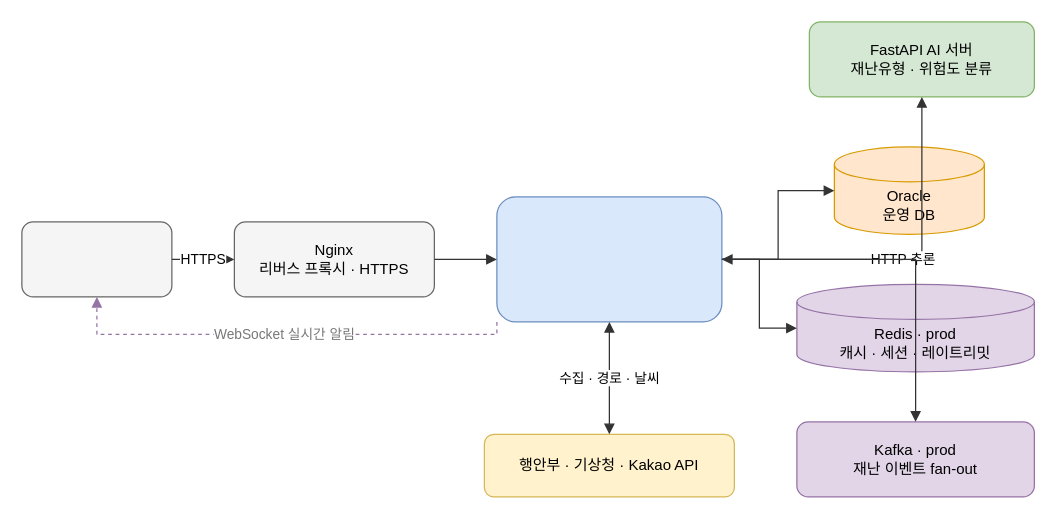
The diagram is 1056 pixels wide and 519 high, and some of its shapes have lost their labels. Here are the shapes that lost their labels. From the top down, the centre of each, then its label:
At point 96,259: "사용자 브라우저".
At point 609,259: "Spring Boot 메인 서버 지도 · 재난 · 커뮤니티 · 관리자".
